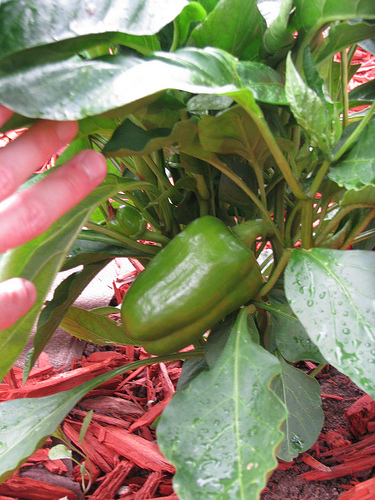capsicum: (120, 212, 281, 355)
